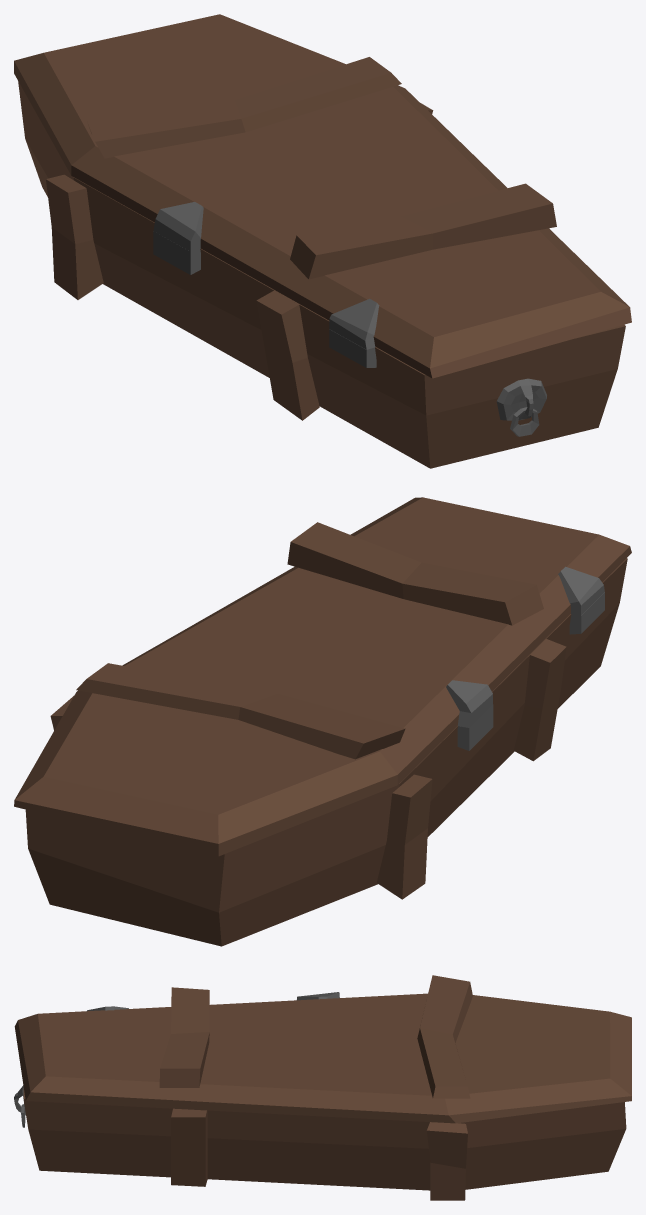
File: coffin.fbx
The picture shows the model from 3 angles, top to bottom: view 1: azimuth 30°, elevation 25°; view 2: azimuth 150°, elevation 25°; view 3: azimuth 270°, elevation 25°; orthographic projection. The views are drawn at different scales.
Visible parts, largest first — view 1: coffin; view 2: coffin; view 3: coffin.
Boxes of the visible parts, x1=… form: coffin: x1=14, y1=14, x2=631, y2=468; coffin: x1=14, y1=497, x2=631, y2=946; coffin: x1=14, y1=975, x2=631, y2=1200.
Size of the model in its own units: 359 by 155 by 720.
